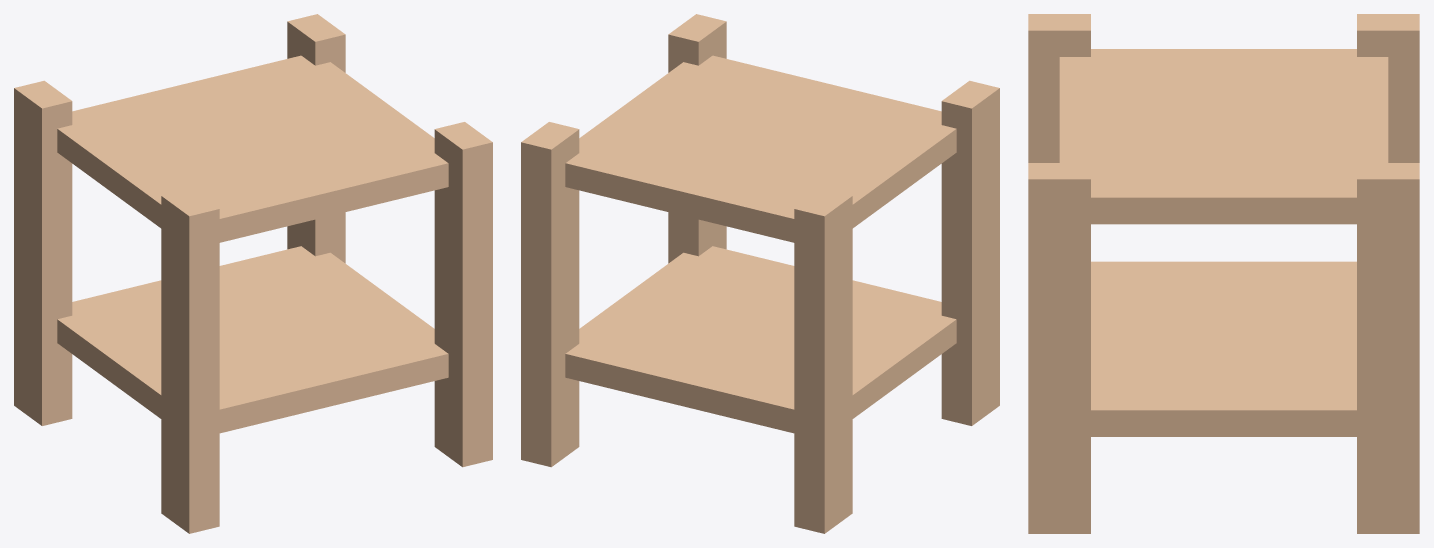
The model's file is kn-bookcase-open-low.glb.
The picture shows the model from 3 angles, left to right: view 1: azimuth 30°, elevation 25°; view 2: azimuth 150°, elevation 25°; view 3: azimuth 270°, elevation 25°; orthographic projection. The views are drawn at different scales.
Parts seen in each view (by area): view 1: bookcaseOpenLow(Clone); view 2: bookcaseOpenLow(Clone); view 3: bookcaseOpenLow(Clone).
Boxes of the visible parts, bbox=[...] form: bookcaseOpenLow(Clone): bbox=[14, 14, 492, 533]; bookcaseOpenLow(Clone): bbox=[521, 14, 999, 533]; bookcaseOpenLow(Clone): bbox=[1028, 14, 1419, 533].
Size of the model in its own units: 1 by 1 by 1.
